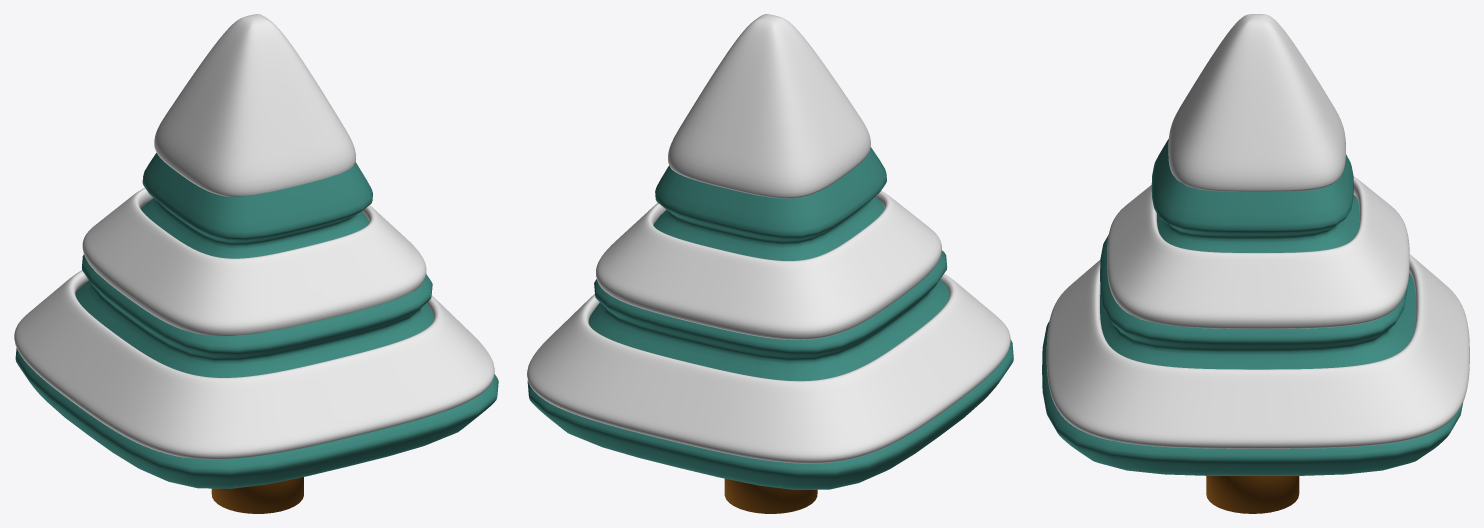
Rendered from tree_draco.glb.
3 views of the same model, side by side, from view 1: azimuth 30°, elevation 25°; view 2: azimuth 150°, elevation 25°; view 3: azimuth 270°, elevation 25° (orthographic).
Parts seen in each view (by area): view 1: Cylinder; view 2: Cylinder; view 3: Cylinder.
Boxes of the visible parts, left/top/right/bottom form: Cylinder: left=14, top=14, right=498, bottom=513; Cylinder: left=527, top=14, right=1013, bottom=513; Cylinder: left=1042, top=14, right=1469, bottom=513.
Size of the model in its own units: 3.17 by 3.94 by 3.2.
